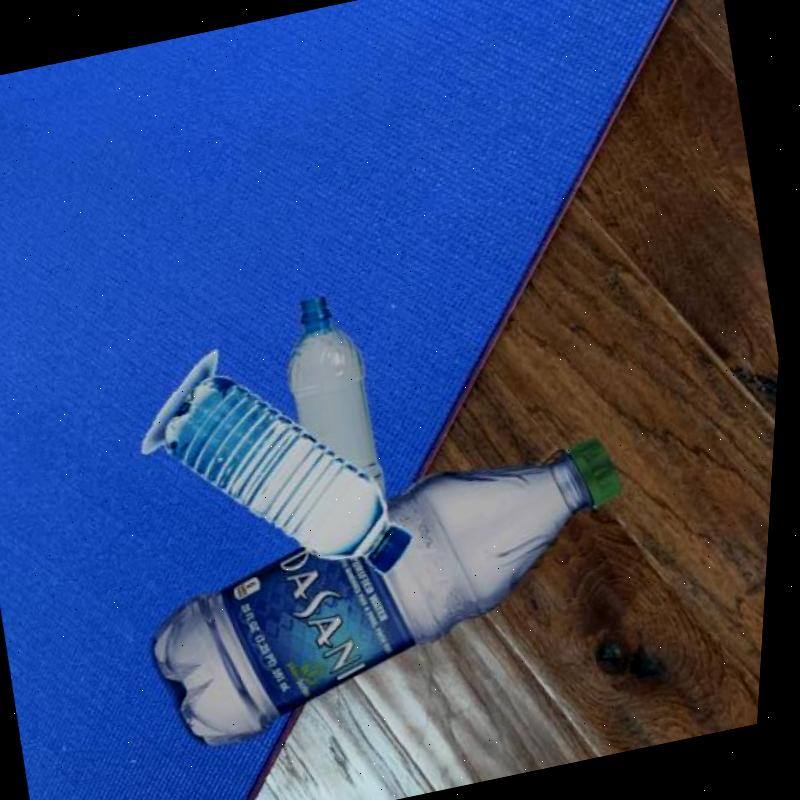botella: (127, 434, 663, 755), (145, 338, 437, 614), (267, 285, 405, 532)
